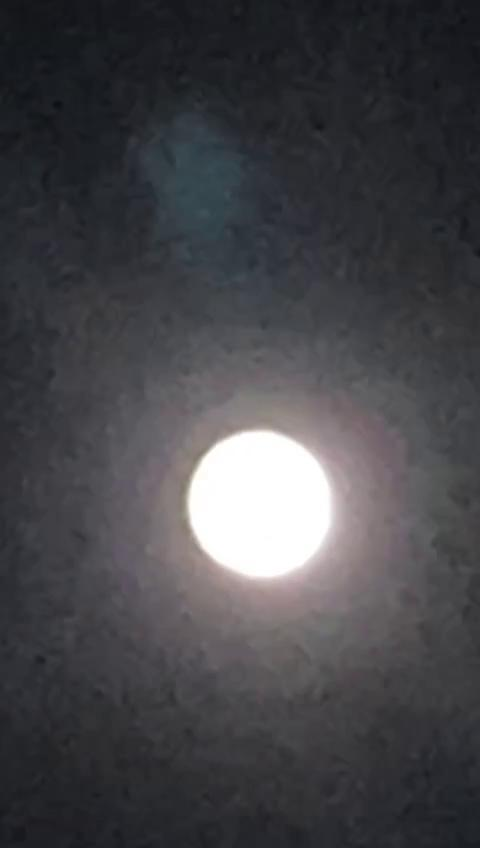moon: (174, 389, 346, 580)
